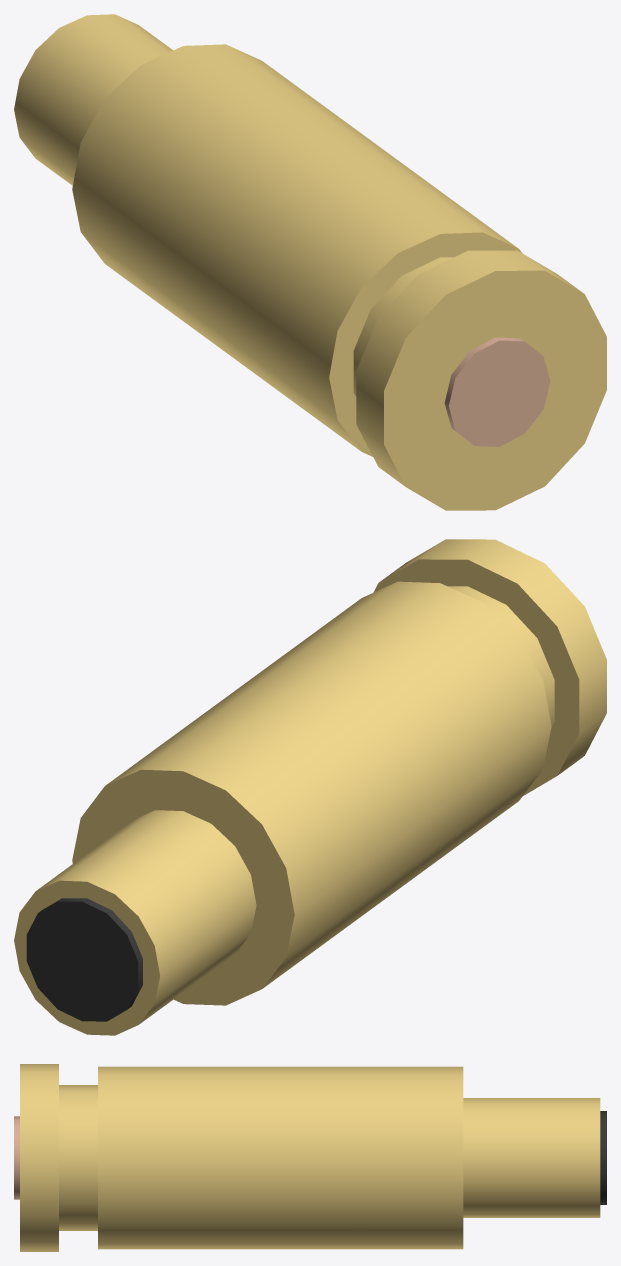
Rendered from shell_casing.glb.
3 renders of one model, top to bottom at view 1: azimuth 30°, elevation 25°; view 2: azimuth 150°, elevation 25°; view 3: azimuth 270°, elevation 25°, orthographic. The views are drawn at different scales.
Visible parts, largest first — view 1: ShellCasing_Mesh; view 2: ShellCasing_Mesh; view 3: ShellCasing_Mesh.
Boxes of the visible parts, <box> form: ShellCasing_Mesh: <box>14,14,606,510</box>; ShellCasing_Mesh: <box>14,539,606,1035</box>; ShellCasing_Mesh: <box>14,1064,606,1251</box>.
Bounding box in the file's own units: 0.014 × 0.0144 × 0.0454.
